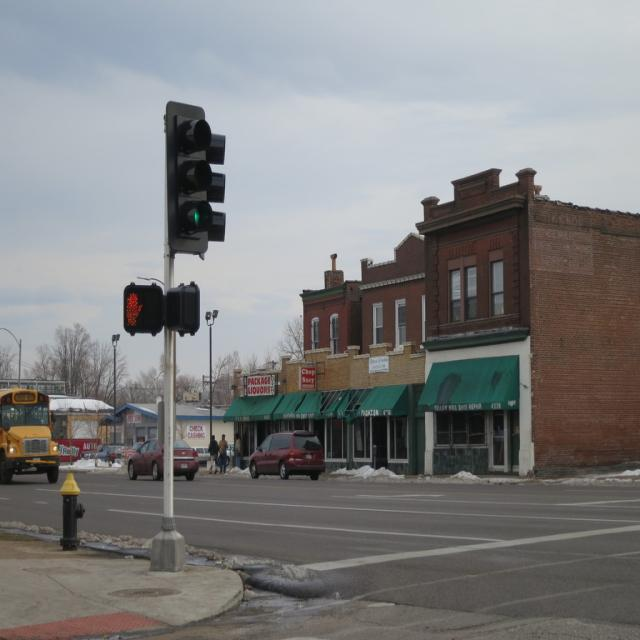traffic light: (167, 109, 208, 246)
